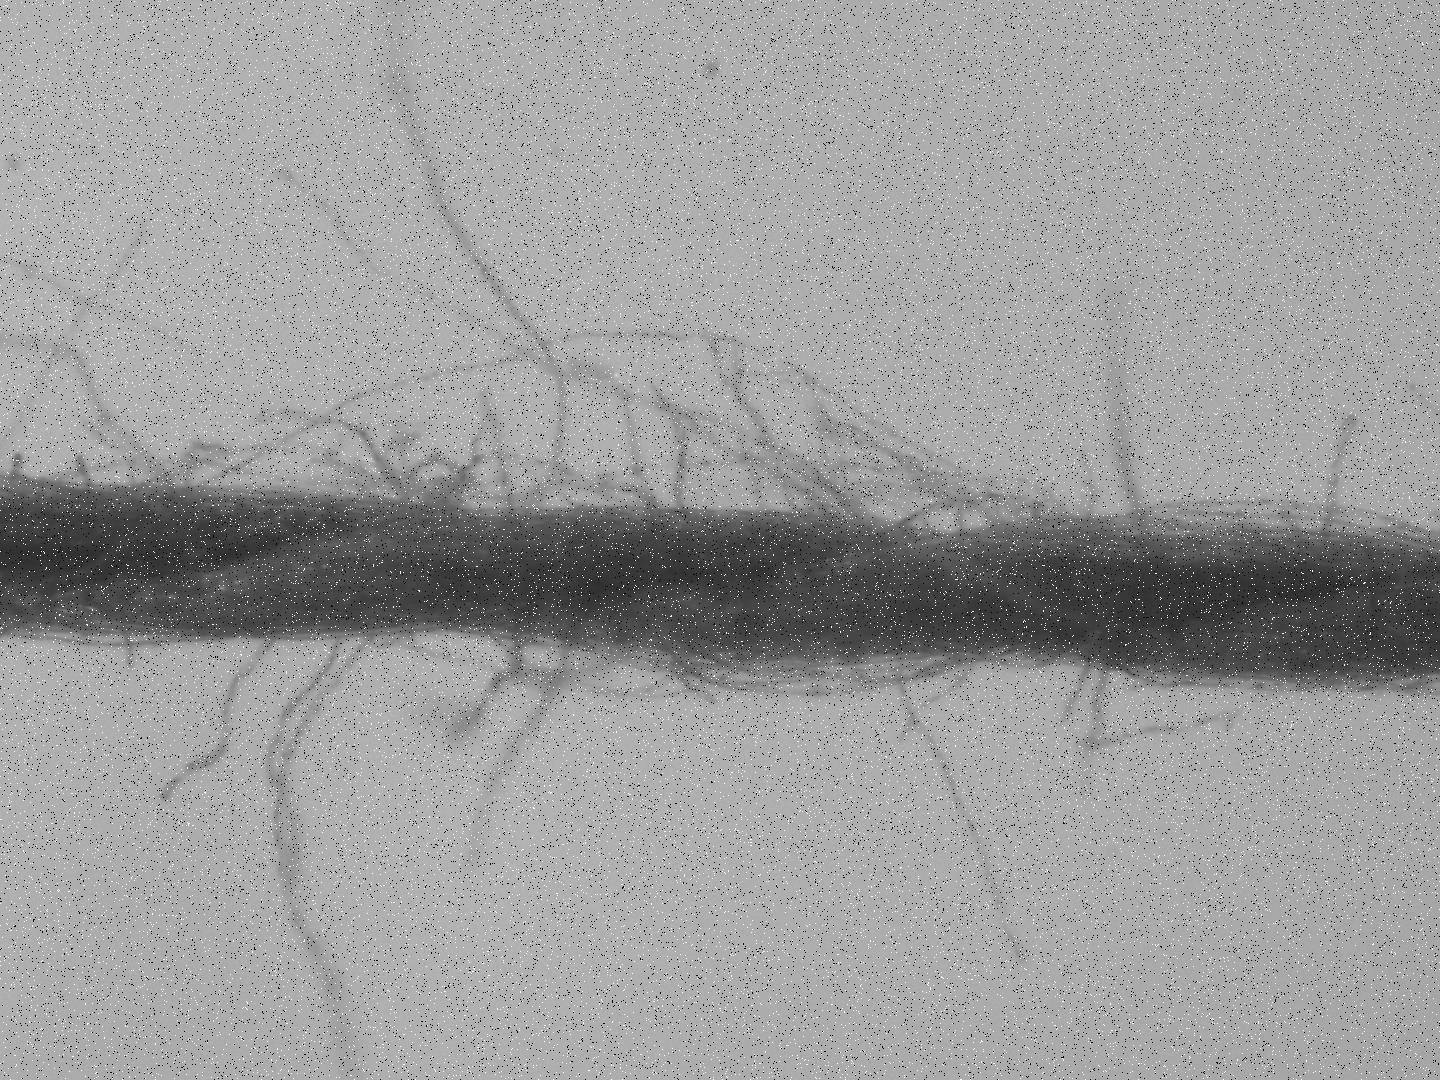loop_fiber: (29, 322, 1035, 584), (652, 334, 1062, 533), (257, 630, 387, 1080), (379, 614, 768, 707), (1044, 499, 1440, 551), (376, 621, 675, 690), (662, 639, 975, 698), (171, 434, 390, 507), (467, 382, 517, 511), (386, 448, 484, 512), (26, 454, 147, 492)
protruding_fiber: (266, 157, 649, 533), (374, 61, 574, 512), (889, 644, 1033, 977), (3, 208, 163, 474), (450, 628, 585, 879), (1, 329, 185, 486), (1, 235, 213, 369), (145, 634, 291, 824), (238, 406, 423, 508), (1067, 681, 1295, 751), (1096, 285, 1157, 533), (432, 624, 532, 756), (889, 652, 992, 760), (1071, 649, 1127, 816), (646, 380, 698, 514), (1322, 413, 1365, 539), (1049, 652, 1101, 737), (1071, 442, 1099, 517), (1403, 376, 1440, 419), (66, 449, 103, 489), (113, 628, 142, 680)
